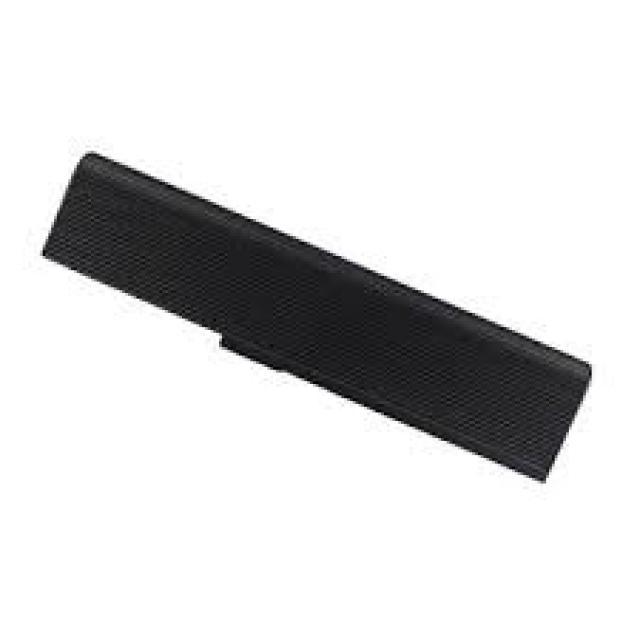battery: (39, 143, 594, 486)
